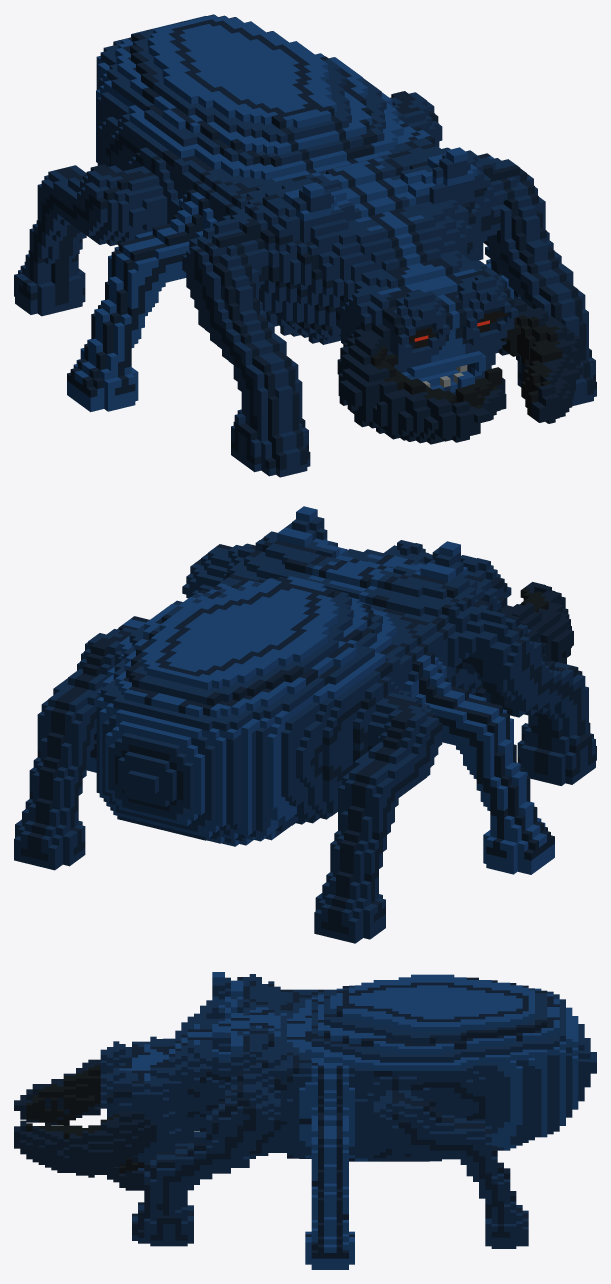
Rendered from beetle_attack_blue_v2.0-3.obj.
The picture shows the model from 3 angles, top to bottom: view 1: azimuth 30°, elevation 25°; view 2: azimuth 150°, elevation 25°; view 3: azimuth 270°, elevation 25°; orthographic projection. The views are drawn at different scales.
Bounding box in the file's own units: 6.8 × 3.2 × 9.4.
Materials: 1 (1 with a texture image).
